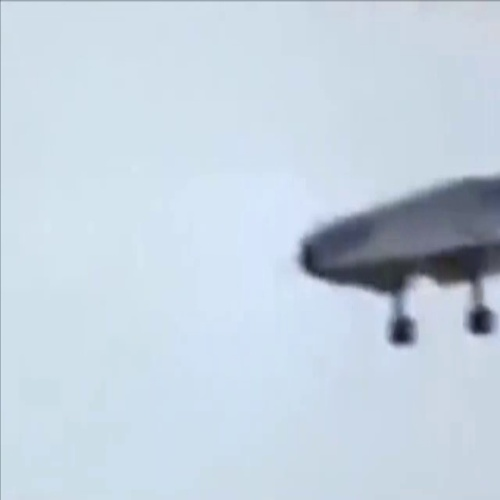uav: (296, 169, 500, 347)
